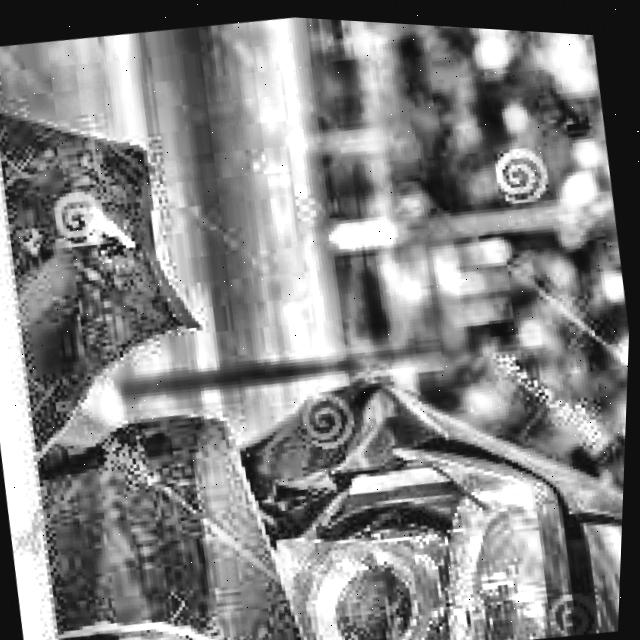head_lamp: (246, 362, 585, 640)
